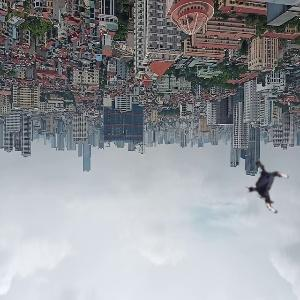drone: (242, 161, 294, 213)
